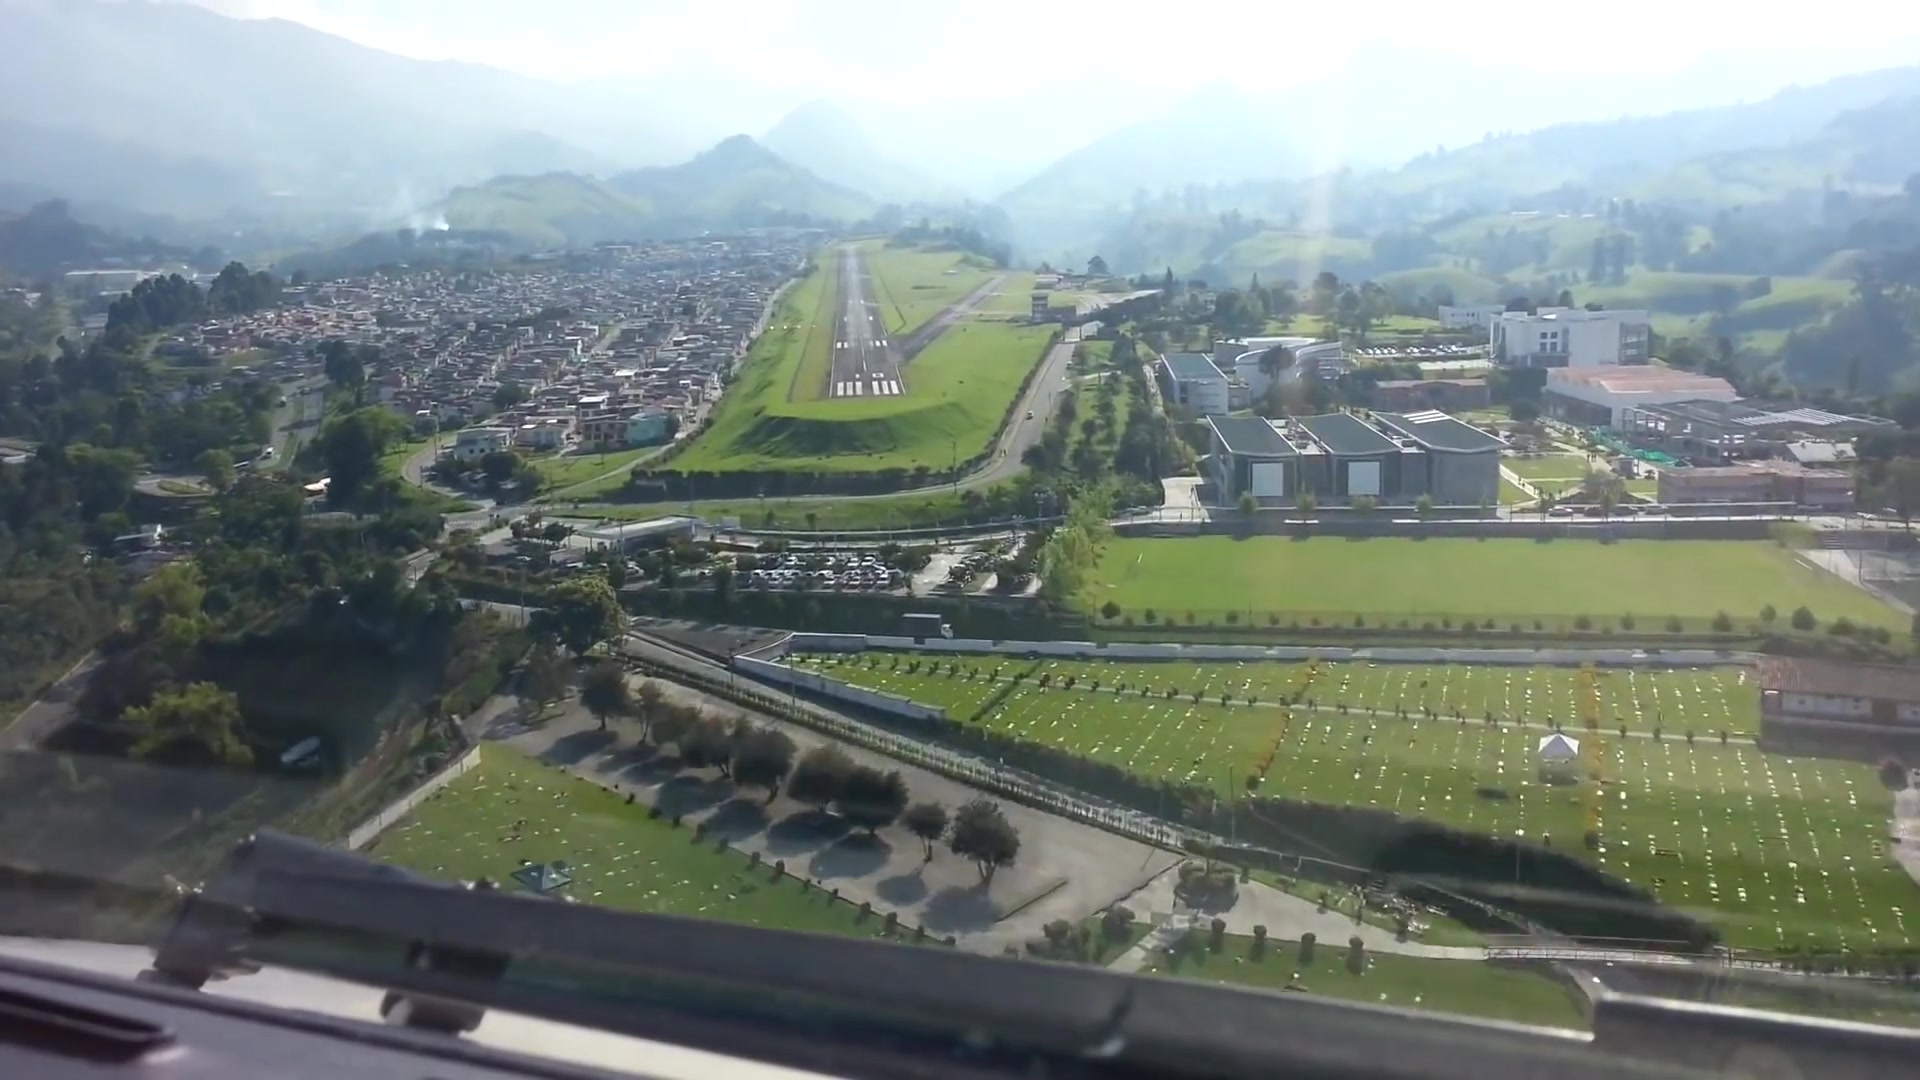entrance: (833, 378, 899, 396)
runway: (825, 244, 910, 401)
